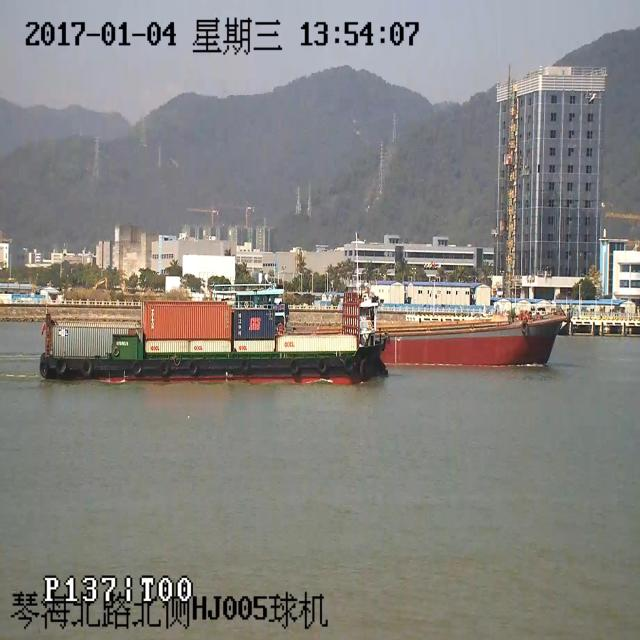cargoship: (30, 271, 383, 384), (380, 276, 586, 378)
